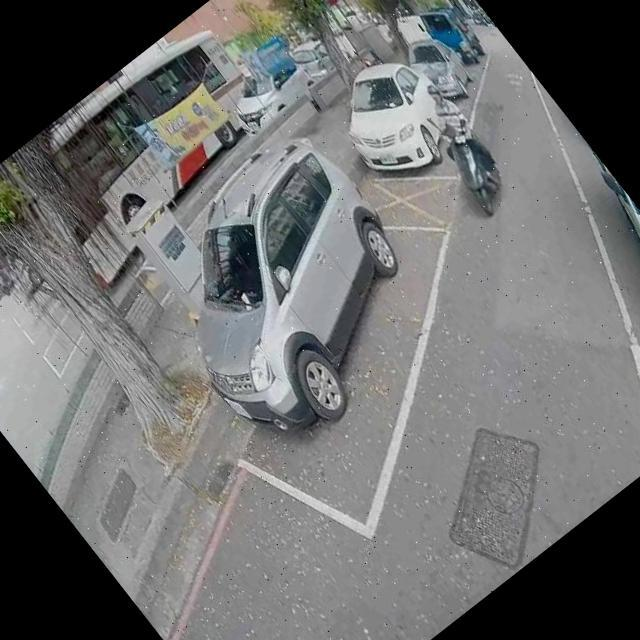person: (404, 77, 513, 202), (0, 250, 14, 293)
